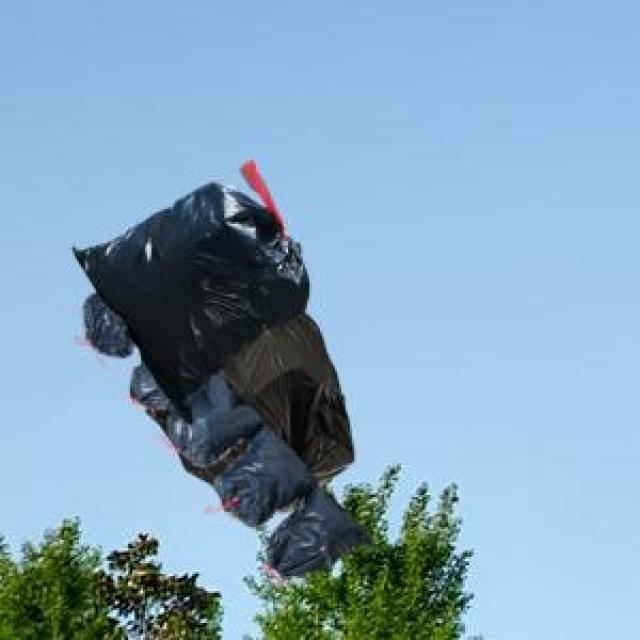miscellaneous trash: (68, 156, 305, 420), (126, 369, 373, 574), (158, 307, 350, 514)
